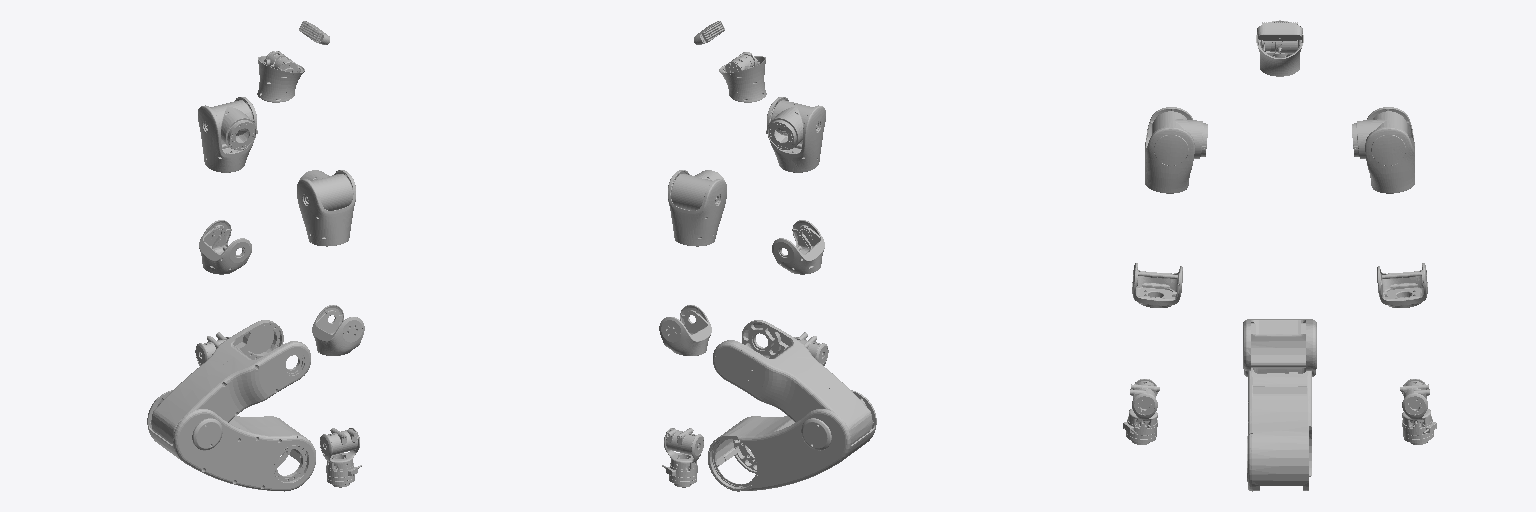
--- Facts derived from the render (not from the file) ---
3 views of the same robot in one strip: view 1: azimuth 30°, elevation 25°; view 2: azimuth 150°, elevation 25°; view 3: azimuth 270°, elevation 25° (orthographic).
Robot: tianyi2_urdf — 25 links, 24 joints (21 revolute, 3 fixed); root link base; default pose: all joints at 0.
Visible links, largest first — view 1: first_leg_pitch_link, second_leg_pitch_link, shoulder_roll_r_link, elbow_pitch_l_link, shoulder_roll_l_link, elbow_pitch_r_link, shoulder_pitch_l_link, head_yaw_link, shoulder_pitch_r_link, right_tcp_link, wrist_pitch_r_link; view 2: second_leg_pitch_link, first_leg_pitch_link, shoulder_roll_l_link, shoulder_roll_r_link, elbow_pitch_r_link, elbow_pitch_l_link, shoulder_pitch_r_link, head_yaw_link, shoulder_pitch_l_link, left_tcp_link, wrist_pitch_l_link; view 3: first_leg_pitch_link, second_leg_pitch_link, shoulder_roll_l_link, shoulder_roll_r_link, elbow_pitch_l_link, elbow_pitch_r_link, head_yaw_link, shoulder_pitch_l_link, shoulder_pitch_r_link, camera_head_link, left_tcp_link, right_tcp_link (+2 smaller).
Boxes of the visible links, x1,y1,x2,y2 form: first_leg_pitch_link: (147,390,315,491); second_leg_pitch_link: (151,320,310,444); shoulder_roll_r_link: (297,170,355,246); elbow_pitch_l_link: (199,220,251,274); shoulder_roll_l_link: (198,97,256,172); elbow_pitch_r_link: (312,305,364,355); shoulder_pitch_l_link: (206,100,257,149); head_yaw_link: (257,51,304,102); shoulder_pitch_r_link: (299,170,352,210); right_tcp_link: (326,457,361,487); wrist_pitch_r_link: (324,428,358,454); second_leg_pitch_link: (713,320,872,444); first_leg_pitch_link: (708,390,876,491); shoulder_roll_l_link: (668,170,726,246); shoulder_roll_r_link: (767,97,825,172); elbow_pitch_r_link: (772,220,824,274); elbow_pitch_l_link: (659,305,711,355); shoulder_pitch_r_link: (766,100,817,149); head_yaw_link: (719,56,766,102); shoulder_pitch_l_link: (671,170,724,210); left_tcp_link: (662,457,697,487); wrist_pitch_l_link: (665,428,699,454); first_leg_pitch_link: (1244,368,1315,491); second_leg_pitch_link: (1243,319,1316,373); shoulder_roll_l_link: (1365,107,1414,193); shoulder_roll_r_link: (1145,107,1194,193); elbow_pitch_l_link: (1377,263,1427,307); elbow_pitch_r_link: (1132,263,1182,307); head_yaw_link: (1256,20,1303,76); shoulder_pitch_l_link: (1352,111,1407,158); shoulder_pitch_r_link: (1152,111,1207,158); camera_head_link: (1257,22,1302,40); left_tcp_link: (1402,415,1436,444); right_tcp_link: (1123,415,1157,444).
Size in the robot's own frame: 0.3953 by 0.6155 by 1.05 metres.
17 mesh visuals loaded from 25 distinct referenced files (17 binary STL); not drawn: 8 (reference not matched to a file when rendering).

URDF robot description (tianyi2_urdf):
<?xml version='1.0' encoding='utf-8'?>
<robot name="tianyi2_urdf">
  <link name="base">
    <inertial>
      <origin xyz="-0.00067 -0.002625 0.150395" rpy="0 0 0" />
      <mass value="47.555667" />
      <inertia ixx="1.277779" ixy="-0.001232" ixz="-0.093599" iyy="1.293166" iyz="0.0036" izz="1.385346" />
    </inertial>
    <visual>
      <origin xyz="0 0 0" rpy="0 0 0" />
      <geometry>
        <mesh filename="package://tianyi2_urdf/meshes/base.STL" />
      </geometry>
      <material name="">
        <color rgba="0.752941176470588 0.752941176470588 0.752941176470588 1" />
      </material>
    </visual>
    <collision>
      <origin xyz="0 0 0" rpy="0 0 0" />
      <geometry>
        <mesh filename="package://tianyi2_urdf/meshes/base.STL" />
      </geometry>
    </collision>
  </link>
  <link name="first_leg_pitch_link">
    <inertial>
      <origin xyz="-0.105847 -0.000632 0.041305" rpy="0 0 0" />
      <mass value="2.460134" />
      <inertia ixx="0.012918" ixy="0.000516" ixz="0.0066" iyy="0.028707" iyz="-0.000254" izz="0.027239" />
    </inertial>
    <visual>
      <origin xyz="0 0 0" rpy="0 0 0" />
      <geometry>
        <mesh filename="package://tianyi2_urdf/meshes/first_leg_pitch_link.STL" />
      </geometry>
      <material name="">
        <color rgba="0.752941176470588 0.752941176470588 0.752941176470588 1" />
      </material>
    </visual>
    <collision>
      <origin xyz="0 0 0" rpy="0 0 0" />
      <geometry>
        <mesh filename="package://tianyi2_urdf/meshes/first_leg_pitch_link.STL" />
      </geometry>
    </collision>
  </link>
  <joint name="first_leg_pitch_joint" type="revolute">
    <origin xyz="0.049182 0 0.37" rpy="0 0 0" />
    <parent link="base" />
    <child link="first_leg_pitch_link" />
    <axis xyz="0 1 0" />
    <limit lower="-0.41887902047863906" upper="1.0471975511965976" effort="332.0" velocity="3.9269908169872414" />
  </joint>
  <link name="second_leg_pitch_link">
    <inertial>
      <origin xyz="0.056775 0.000389 0.045258" rpy="0 0 0" />
      <mass value="2.430846" />
      <inertia ixx="0.011853" ixy="4.6e-05" ixz="-0.009109" iyy="0.025086" iyz="5.6e-05" izz="0.022169" />
    </inertial>
    <visual>
      <origin xyz="0 0 0" rpy="0 0 0" />
      <geometry>
        <mesh filename="package://tianyi2_urdf/meshes/second_leg_pitch_link.STL" />
      </geometry>
      <material name="">
        <color rgba="0.752941176470588 0.752941176470588 0.752941176470588 1" />
      </material>
    </visual>
    <collision>
      <origin xyz="0 0 0" rpy="0 0 0" />
      <geometry>
        <mesh filename="package://tianyi2_urdf/meshes/second_leg_pitch_link.STL" />
      </geometry>
    </collision>
  </link>
  <joint name="second_leg_pitch_joint" type="revolute">
    <origin xyz="-0.20785 0 0.12" rpy="0 0 0" />
    <parent link="first_leg_pitch_link" />
    <child link="second_leg_pitch_link" />
    <axis xyz="0 1 0" />
    <limit lower="-0.5061454830783556" upper="1.7453292519943295" effort="332.0" velocity="3.9269908169872414" />
  </joint>
  <link name="waist_pitch_link">
    <inertial>
      <origin xyz="8e-06 0.012369 0.001276" rpy="0 0 0" />
      <mass value="3.38238" />
      <inertia ixx="0.005589" ixy="1e-06" ixz="-1e-06" iyy="0.006064" iyz="4.9e-05" izz="0.005334" />
    </inertial>
    <visual>
      <origin xyz="0 0 0" rpy="0 0 0" />
      <geometry>
        <mesh filename="package://tianyi2_urdf/meshes/waist_pitch_link.STL" />
      </geometry>
      <material name="">
        <color rgba="0.752941176470588 0.752941176470588 0.752941176470588 1" />
      </material>
    </visual>
    <collision>
      <origin xyz="0 0 0" rpy="0 0 0" />
      <geometry>
        <mesh filename="package://tianyi2_urdf/meshes/waist_pitch_link.STL" />
      </geometry>
    </collision>
  </link>
  <joint name="waist_pitch_joint" type="revolute">
    <origin xyz="0.20785 0 0.12" rpy="0 0 0" />
    <parent link="second_leg_pitch_link" />
    <child link="waist_pitch_link" />
    <axis xyz="0 1 0" />
    <limit lower="-2.0943951023931953" upper="0.7853981633974483" effort="332.0" velocity="3.9269908169872414" />
  </joint>
  <link name="body_yaw_link">
    <inertial>
      <origin xyz="0.009196 -0.000592 0.251379" rpy="0 0 0" />
      <mass value="13.795395" />
      <inertia ixx="0.372395" ixy="0.000248" ixz="0.001337" iyy="0.331609" iyz="0.000779" izz="0.127753" />
    </inertial>
    <visual>
      <origin xyz="0 0 0" rpy="0 0 0" />
      <geometry>
        <mesh filename="package://tianyi2_urdf/meshes/body_yaw_link.STL" />
      </geometry>
      <material name="">
        <color rgba="0.752941176470588 0.752941176470588 0.752941176470588 1" />
      </material>
    </visual>
    <collision>
      <origin xyz="0 0 0" rpy="0 0 0" />
      <geometry>
        <mesh filename="package://tianyi2_urdf/meshes/body_yaw_link.STL" />
      </geometry>
    </collision>
  </link>
  <joint name="body_yaw_joint" type="revolute">
    <origin xyz="0 0 0.07" rpy="0 0 0" />
    <parent link="waist_pitch_link" />
    <child link="body_yaw_link" />
    <axis xyz="0 0 1" />
    <limit lower="-2.9670597283903604" upper="3.141592653589793" effort="143.0" velocity="4.71238898038469" />
  </joint>
  <link name="head_yaw_link">
    <inertial>
      <origin xyz="-0.000202 0.000454 0.007248" rpy="0 0 0" />
      <mass value="0.088397" />
      <inertia ixx="9.5e-05" ixy="-1e-06" ixz="-3e-06" iyy="7.6e-05" iyz="-3e-06" izz="0.000106" />
    </inertial>
    <visual>
      <origin xyz="0 0 0" rpy="0 0 0" />
      <geometry>
        <mesh filename="package://tianyi2_urdf/meshes/head_yaw_link.STL" />
      </geometry>
      <material name="">
        <color rgba="0.752941176470588 0.752941176470588 0.752941176470588 1" />
      </material>
    </visual>
    <collision>
      <origin xyz="0 0 0" rpy="0 0 0" />
      <geometry>
        <mesh filename="package://tianyi2_urdf/meshes/head_yaw_link.STL" />
      </geometry>
    </collision>
  </link>
  <joint name="head_yaw_joint" type="revolute">
    <origin xyz="-0.002 0 0.56508" rpy="0 0 0" />
    <parent link="body_yaw_link" />
    <child link="head_yaw_link" />
    <axis xyz="0 0 1" />
    <limit lower="-1.5707963267948966" upper="1.5707963267948966" effort="6.3" velocity="7.5398223686155035" />
  </joint>
  <link name="head_pitch_link">
    <inertial>
      <origin xyz="-0.000274 0.004118 2.3e-05" rpy="0 0 0" />
      <mass value="0.23046" />
      <inertia ixx="9.2e-05" ixy="1e-06" ixz="-1e-06" iyy="5.4e-05" iyz="0.0" izz="9.5e-05" />
    </inertial>
    <visual>
      <origin xyz="0 0 0" rpy="0 0 0" />
      <geometry>
        <mesh filename="package://tianyi2_urdf/meshes/head_pitch_link.STL" />
      </geometry>
      <material name="">
        <color rgba="0.752941176470588 0.752941176470588 0.752941176470588 1" />
      </material>
    </visual>
    <collision>
      <origin xyz="0 0 0" rpy="0 0 0" />
      <geometry>
        <mesh filename="package://tianyi2_urdf/meshes/head_pitch_link.STL" />
      </geometry>
    </collision>
  </link>
  <joint name="head_pitch_joint" type="revolute">
    <origin xyz="0.01455 0 0.0304" rpy="0 0.2618 0" />
    <parent link="head_yaw_link" />
    <child link="head_pitch_link" />
    <axis xyz="0 1 0" />
    <limit lower="-0.4363323129985824" upper="0.4363323129985824" effort="6.3" velocity="7.5398223686155035" />
  </joint>
  <link name="head_roll_link">
    <inertial>
      <origin xyz="0.022467 0.001208 0.053952" rpy="0 0 0" />
      <mass value="0.844627" />
      <inertia ixx="0.00235" ixy="3.8e-05" ixz="0.000436" iyy="0.003365" iyz="6e-06" izz="0.002875" />
    </inertial>
    <visual>
      <origin xyz="0 0 0" rpy="0 0 0" />
      <geometry>
        <mesh filename="package://tianyi2_urdf/meshes/head_roll_link.STL" />
      </geometry>
      <material name="">
        <color rgba="0.752941176470588 0.752941176470588 0.752941176470588 1" />
      </material>
    </visual>
    <collision>
      <origin xyz="0 0 0" rpy="0 0 0" />
      <geometry>
        <mesh filename="package://tianyi2_urdf/meshes/head_roll_link.STL" />
      </geometry>
    </collision>
  </link>
  <joint name="head_roll_joint" type="revolute">
    <origin xyz="0 0 0" rpy="0 0 0" />
    <parent link="head_pitch_link" />
    <child link="head_roll_link" />
    <axis xyz="1 0 0" />
    <limit lower="-0.4537856055185257" upper="0.4537856055185257" effort="6.3" velocity="7.5398223686155035" />
  </joint>
  <link name="camera_head_link">
    <inertial>
      <origin xyz="0.010986 -0.000307 -0.016475" rpy="0 0 0" />
      <mass value="0.1" />
      <inertia ixx="1.6e-05" ixy="0.0" ixz="0.0" iyy="8e-05" iyz="0.0" izz="7.7e-05" />
    </inertial>
    <visual>
      <origin xyz="0 0 0" rpy="0 0 0" />
      <geometry>
        <mesh filename="package://tianyi2_urdf/meshes/camera_head_link.STL" />
      </geometry>
      <material name="">
        <color rgba="0.752941176470588 0.752941176470588 0.752941176470588 1" />
      </material>
    </visual>
    <collision>
      <origin xyz="0 0 0" rpy="0 0 0" />
      <geometry>
        <mesh filename="package://tianyi2_urdf/meshes/camera_head_link.STL" />
      </geometry>
    </collision>
  </link>
  <joint name="camera_head_joint" type="fixed">
    <origin xyz="0.075288 0.010935 0.07441" rpy="-1.8326 0 -1.5708" />
    <parent link="head_roll_link" />
    <child link="camera_head_link" />
    <axis xyz="0 0 0" />
  </joint>
  <link name="shoulder_pitch_l_link">
    <inertial>
      <origin xyz="0.007494 0.064184 -2e-05" rpy="0 0 0" />
      <mass value="1.032698" />
      <inertia ixx="0.001025" ixy="-2.7e-05" ixz="-1e-06" iyy="0.001078" iyz="0.0" izz="0.001247" />
    </inertial>
    <visual>
      <origin xyz="0 0 0" rpy="0 0 0" />
      <geometry>
        <mesh filename="package://tianyi2_urdf/meshes/shoulder_pitch_l_link.STL" />
      </geometry>
      <material name="">
        <color rgba="0.752941176470588 0.752941176470588 0.752941176470588 1" />
      </material>
    </visual>
    <collision>
      <origin xyz="0 0 0" rpy="0 0 0" />
      <geometry>
        <mesh filename="package://tianyi2_urdf/meshes/shoulder_pitch_l_link.STL" />
      </geometry>
    </collision>
  </link>
  <joint name="shoulder_pitch_l_joint" type="revolute">
    <origin xyz="0 0.14539 0.37721" rpy="0.087266 0 0" />
    <parent link="body_yaw_link" />
    <child link="shoulder_pitch_l_link" />
    <axis xyz="0 1 0" />
    <limit lower="-2.9670597283903604" upper="2.9670597283903604" effort="91.0" velocity="9.215338450530059" />
  </joint>
  <link name="shoulder_roll_l_link">
    <inertial>
      <origin xyz="0.002389 0.002259 -0.048236" rpy="0 0 0" />
      <mass value="0.440997" />
      <inertia ixx="0.001001" ixy="-4e-06" ixz="-2.5e-05" iyy="0.001313" iyz="-1.4e-05" izz="0.000911" />
    </inertial>
    <visual>
      <origin xyz="0 0 0" rpy="0 0 0" />
      <geometry>
        <mesh filename="package://tianyi2_urdf/meshes/shoulder_roll_l_link.STL" />
      </geometry>
      <material name="">
        <color rgba="0.752941176470588 0.752941176470588 0.752941176470588 1" />
      </material>
    </visual>
    <collision>
      <origin xyz="0 0 0" rpy="0 0 0" />
      <geometry>
        <mesh filename="package://tianyi2_urdf/meshes/shoulder_roll_l_link.STL" />
      </geometry>
    </collision>
  </link>
  <joint name="shoulder_roll_l_joint" type="revolute">
    <origin xyz="0 0.068 0" rpy="0 0 0" />
    <parent link="shoulder_pitch_l_link" />
    <child link="shoulder_roll_l_link" />
    <axis xyz="1 0 0" />
    <limit lower="-1.0471975511965976" upper="1.8325957145940461" effort="95.0" velocity="3.979350694547071" />
  </joint>
  <link name="shoulder_yaw_l_link">
    <inertial>
      <origin xyz="0.008319 0.002686 -0.112525" rpy="0 0 0" />
      <mass value="1.365033" />
      <inertia ixx="0.009637" ixy="-5.7e-05" ixz="0.00095" iyy="0.0096" iyz="0.000339" izz="0.001331" />
    </inertial>
    <visual>
      <origin xyz="0 0 0" rpy="0 0 0" />
      <geometry>
        <mesh filename="package://tianyi2_urdf/meshes/shoulder_yaw_l_link.STL" />
      </geometry>
      <material name="">
        <color rgba="0.752941176470588 0.752941176470588 0.752941176470588 1" />
      </material>
    </visual>
    <collision>
      <origin xyz="0 0 0" rpy="0 0 0" />
      <geometry>
        <mesh filename="package://tianyi2_urdf/meshes/shoulder_yaw_l_link.STL" />
      </geometry>
    </collision>
  </link>
  <joint name="shoulder_yaw_l_joint" type="revolute">
    <origin xyz="0 0 -0.1025" rpy="0 0 0" />
    <parent link="shoulder_roll_l_link" />
    <child link="shoulder_yaw_l_link" />
    <axis xyz="0 0 1" />
    <limit lower="-2.9670597283903604" upper="2.9670597283903604" effort="35.0" velocity="5.235987755982989" />
  </joint>
  <link name="elbow_pitch_l_link">
    <inertial>
      <origin xyz="-0.014694 -7.2e-05 -0.026081" rpy="0 0 0" />
      <mass value="0.246311" />
      <inertia ixx="0.000381" ixy="1e-06" ixz="-1.2e-05" iyy="0.000222" iyz="2e-06" izz="0.000401" />
    </inertial>
    <visual>
      <origin xyz="0 0 0" rpy="0 0 0" />
      <geometry>
        <mesh filename="package://tianyi2_urdf/meshes/elbow_pitch_l_link.STL" />
      </geometry>
      <material name="">
        <color rgba="0.752941176470588 0.752941176470588 0.752941176470588 1" />
      </material>
    </visual>
    <collision>
      <origin xyz="0 0 0" rpy="0 0 0" />
      <geometry>
        <mesh filename="package://tianyi2_urdf/meshes/elbow_pitch_l_link.STL" />
      </geometry>
    </collision>
  </link>
  <joint name="elbow_pitch_l_joint" type="revolute">
    <origin xyz="0.02 0 -0.1975" rpy="0 0 0" />
    <parent link="shoulder_yaw_l_link" />
    <child link="elbow_pitch_l_link" />
    <axis xyz="0 1 0" />
    <limit lower="-2.6179938779914944" upper="0.2617993877991494" effort="35.0" velocity="5.235987755982989" />
  </joint>
  <link name="elbow_yaw_l_link">
    <inertial>
      <origin xyz="0.000158 0.001503 -0.069535" rpy="0 0 0" />
      <mass value="0.986828" />
      <inertia ixx="0.003108" ixy="-1e-06" ixz="8e-06" iyy="0.003035" iyz="8.9e-05" izz="0.00058" />
    </inertial>
    <visual>
      <origin xyz="0 0 0" rpy="0 0 0" />
      <geometry>
        <mesh filename="package://tianyi2_urdf/meshes/elbow_yaw_l_link.STL" />
      </geometry>
      <material name="">
        <color rgba="0.752941176470588 0.752941176470588 0.752941176470588 1" />
      </material>
    </visual>
    <collision>
      <origin xyz="0 0 0" rpy="0 0 0" />
      <geometry>
        <mesh filename="package://tianyi2_urdf/meshes/elbow_yaw_l_link.STL" />
      </geometry>
    </collision>
  </link>
  <joint name="elbow_yaw_l_joint" type="revolute">
    <origin xyz="-0.02 0 -0.0543" rpy="0 0 0" />
    <parent link="elbow_pitch_l_link" />
    <child link="elbow_yaw_l_link" />
    <axis xyz="0 0 1" />
    <limit lower="-2.9670597283903604" upper="2.9670597283903604" effort="24.0" velocity="10.471975511965978" />
  </joint>
  <link name="wrist_pitch_l_link">
    <inertial>
      <origin xyz="0.005362 0.00064 -0.018812" rpy="0 0 0" />
      <mass value="0.262007" />
      <inertia ixx="7.1e-05" ixy="-3e-06" ixz="-2e-06" iyy="0.000112" iyz="-3e-06" izz="0.000111" />
    </inertial>
    <visual>
      <origin xyz="0 0 0" rpy="0 0 0" />
      <geometry>
        <mesh filename="package://tianyi2_urdf/meshes/wrist_pitch_l_link.STL" />
      </geometry>
      <material name="">
        <color rgba="0.752941176470588 0.752941176470588 0.752941176470588 1" />
      </material>
    </visual>
    <collision>
      <origin xyz="0 0 0" rpy="0 0 0" />
      <geometry>
        <mesh filename="package://tianyi2_urdf/meshes/wrist_pitch_l_link.STL" />
      </geometry>
    </collision>
  </link>
  <joint name="wrist_pitch_l_joint" type="revolute">
    <origin xyz="0 0.002 -0.1887" rpy="0 0 0" />
    <parent link="elbow_yaw_l_link" />
    <child link="wrist_pitch_l_link" />
    <axis xyz="0 1 0" />
    <limit lower="-1.3089969389957472" upper="1.6580627893946132" effort="6.3" velocity="7.5398223686155035" />
  </joint>
  <link name="wrist_roll_l_link">
    <inertial>
      <origin xyz="0.000801 8.4e-05 -0.029302" rpy="0 0 0" />
      <mass value="0.131751" />
      <inertia ixx="6.9e-05" ixy="0.0" ixz="-1e-06" iyy="0.000116" iyz="0.0" izz="0.00011" />
    </inertial>
    <visual>
      <origin xyz="0 0 0" rpy="0 0 0" />
      <geometry>
        <mesh filename="package://tianyi2_urdf/meshes/wrist_roll_l_link.STL" />
      </geometry>
      <material name="">
        <color rgba="0.752941176470588 0.752941176470588 0.752941176470588 1" />
      </material>
    </visual>
    <collision>
      <origin xyz="0 0 0" rpy="0 0 0" />
      <geometry>
        <mesh filename="package://tianyi2_urdf/meshes/wrist_roll_l_link.STL" />
      </geometry>
    </collision>
  </link>
  <joint name="wrist_roll_l_joint" type="revolute">
    <origin xyz="5.0485E-05 0 -0.02" rpy="0 0 0" />
    <parent link="wrist_pitch_l_link" />
    <child link="wrist_roll_l_link" />
    <axis xyz="1 0 0" />
    <limit lower="-1.0471975511965976" upper="0.7853981633974483" effort="6.3" velocity="7.5398223686155035" />
  </joint>
  <link name="left_tcp_link">
    <inertial>
      <origin xyz="0.000238 0.000502 0.021714" rpy="0 0 0" />
      <mass value="0.252604" />
      <inertia ixx="0.000124" ixy="-2e-06" ixz="0.0" iyy="0.000119" iyz="0.0" izz="0.000132" />
    </inertial>
    <visual>
      <origin xyz="0 0 0" rpy="0 0 0" />
      <geometry>
        <mesh filename="package://tianyi2_urdf/meshes/left_tcp_link.STL" />
      </geometry>
      <material name="">
        <color rgba="0.752941176470588 0.752941176470588 0.752941176470588 1" />
      </material>
    </visual>
    <collision>
      <origin xyz="0 0 0" rpy="0 0 0" />
      <geometry>
        <mesh filename="package://tianyi2_urdf/meshes/left_tcp_link.STL" />
      </geometry>
    </collision>
  </link>
  <joint name="left_tcp_joint" type="fixed">
    <origin xyz="0 3.5454E-05 -0.084799" rpy="0 0 0" />
    <parent link="wrist_roll_l_link" />
    <child link="left_tcp_link" />
    <axis xyz="0 0 0" />
  </joint>
  <link name="shoulder_pitch_r_link">
    <inertial>
      <origin xyz="0.007494 -0.064184 -2e-05" rpy="0 0 0" />
      <mass value="1.032698" />
      <inertia ixx="0.001025" ixy="2.7e-05" ixz="-1e-06" iyy="0.001078" iyz="0.0" izz="0.001247" />
    </inertial>
    <visual>
      <origin xyz="0 0 0" rpy="0 0 0" />
      <geometry>
        <mesh filename="package://tianyi2_urdf/meshes/shoulder_pitch_r_link.STL" />
      </geometry>
      <material name="">
        <color rgba="0.752941176470588 0.752941176470588 0.752941176470588 1" />
      </material>
    </visual>
    <collision>
      <origin xyz="0 0 0" rpy="0 0 0" />
      <geometry>
        <mesh filename="package://tianyi2_urdf/meshes/shoulder_pitch_r_link.STL" />
      </geometry>
    </collision>
  </link>
  <joint name="shoulder_pitch_r_joint" type="revolute">
    <origin xyz="0 -0.14539 0.37721" rpy="-0.087266 0 0" />
    <parent link="body_yaw_link" />
    <child link="shoulder_pitch_r_link" />
    <axis xyz="0 1 0" />
    <limit lower="-2.9670597283903604" upper="2.9670597283903604" effort="91.0" velocity="9.215338450530059" />
  </joint>
  <link name="shoulder_roll_r_link">
    <inertial>
      <origin xyz="0.002389 -0.002259 -0.048236" rpy="0 0 0" />
      <mass value="0.440997" />
      <inertia ixx="0.001001" ixy="4e-06" ixz="-2.5e-05" iyy="0.001313" iyz="1.4e-05" izz="0.000911" />
    </inertial>
    <visual>
      <origin xyz="0 0 0" rpy="0 0 0" />
      <geometry>
        <mesh filename="package://tianyi2_urdf/meshes/shoulder_roll_r_link.STL" />
      </geometry>
      <material name="">
        <color rgba="0.752941176470588 0.752941176470588 0.752941176470588 1" />
      </material>
    </visual>
    <collision>
      <origin xyz="0 0 0" rpy="0 0 0" />
      <geometry>
        <mesh filename="package://tianyi2_urdf/meshes/shoulder_roll_r_link.STL" />
      </geometry>
    </collision>
  </link>
  <joint name="shoulder_roll_r_joint" type="revolute">
    <origin xyz="0 -0.068 0" rpy="0 0 0" />
    <parent link="shoulder_pitch_r_link" />
    <child link="shoulder_roll_r_link" />
    <axis xyz="1 0 0" />
    <limit lower="-1.8325957145940461" upper="1.0471975511965976" effort="95.0" velocity="3.979350694547071" />
  </joint>
  <link name="shoulder_yaw_r_link">
    <inertial>
      <origin xyz="0.008319 -0.002686 -0.112525" rpy="0 0 0" />
      <mass value="1.365033" />
      <inertia ixx="0.009637" ixy="5.7e-05" ixz="0.00095" iyy="0.0096" iyz="-0.000339" izz="0.001331" />
    </inertial>
    <visual>
      <origin xyz="0 0 0" rpy="0 0 0" />
      <geometry>
        <mesh filename="package://tianyi2_urdf/meshes/shoulder_yaw_r_link.STL" />
      </geometry>
      <material name="">
        <color rgba="0.752941176470588 0.752941176470588 0.752941176470588 1" />
      </material>
    </visual>
    <collision>
      <origin xyz="0 0 0" rpy="0 0 0" />
      <geometry>
        <mesh filename="package://tianyi2_urdf/meshes/shoulder_yaw_r_link.STL" />
      </geometry>
    </collision>
  </link>
  <joint name="shoulder_yaw_r_joint" type="revolute">
    <origin xyz="0 0 -0.1025" rpy="0 0 0" />
    <parent link="shoulder_roll_r_link" />
    <child link="shoulder_yaw_r_link" />
    <axis xyz="0 0 1" />
    <limit lower="-2.9670597283903604" upper="2.9670597283903604" effort="35.0" velocity="5.235987755982989" />
  </joint>
  <link name="elbow_pitch_r_link">
    <inertial>
      <origin xyz="-0.014694 7.2e-05 -0.026081" rpy="0 0 0" />
      <mass value="0.246311" />
      <inertia ixx="0.000381" ixy="-1e-06" ixz="-1.2e-05" iyy="0.000222" iyz="-2e-06" izz="0.000401" />
    </inertial>
    <visual>
      <origin xyz="0 0 0" rpy="0 0 0" />
      <geometry>
        <mesh filename="package://tianyi2_urdf/meshes/elbow_pitch_r_link.STL" />
      </geometry>
      <material name="">
        <color rgba="0.752941176470588 0.752941176470588 0.752941176470588 1" />
      </material>
    </visual>
    <collision>
      <origin xyz="0 0 0" rpy="0 0 0" />
      <geometry>
        <mesh filename="package://tianyi2_urdf/meshes/elbow_pitch_r_link.STL" />
      </geometry>
    </collision>
  </link>
  <joint name="elbow_pitch_r_joint" type="revolute">
    <origin xyz="0.02 0 -0.1975" rpy="0 0 0" />
    <parent link="shoulder_yaw_r_link" />
    <child link="elbow_pitch_r_link" />
    <axis xyz="0 1 0" />
    <limit lower="-2.6179938779914944" upper="0.2617993877991494" effort="35.0" velocity="5.235987755982989" />
  </joint>
  <link name="elbow_yaw_r_link">
    <inertial>
      <origin xyz="0.000158 -0.001503 -0.069535" rpy="0 0 0" />
      <mass value="0.986828" />
      <inertia ixx="0.003108" ixy="1e-06" ixz="8e-06" iyy="0.003035" iyz="-8.9e-05" izz="0.00058" />
    </inertial>
    <visual>
      <origin xyz="0 0 0" rpy="0 0 0" />
      <geometry>
        <mesh filename="package://tianyi2_urdf/meshes/elbow_yaw_r_link.STL" />
      </geometry>
      <material name="">
        <color rgba="0.752941176470588 0.752941176470588 0.752941176470588 1" />
      </material>
    </visual>
    <collision>
      <origin xyz="0 0 0" rpy="0 0 0" />
      <geometry>
        <mesh filename="package://tianyi2_urdf/meshes/elbow_yaw_r_link.STL" />
      </geometry>
    </collision>
  </link>
  <joint name="elbow_yaw_r_joint" type="revolute">
    <origin xyz="-0.02 0 -0.0543" rpy="0 0 0" />
    <parent link="elbow_pitch_r_link" />
    <child link="elbow_yaw_r_link" />
    <axis xyz="0 0 1" />
    <limit lower="-2.9670597283903604" upper="2.9670597283903604" effort="24.0" velocity="10.471975511965978" />
  </joint>
  <link name="wrist_pitch_r_link">
    <inertial>
      <origin xyz="0.005362 -0.00064 -0.018812" rpy="0 0 0" />
      <mass value="0.262007" />
      <inertia ixx="7.1e-05" ixy="3e-06" ixz="-2e-06" iyy="0.000112" iyz="3e-06" izz="0.000111" />
    </inertial>
    <visual>
      <origin xyz="0 0 0" rpy="0 0 0" />
      <geometry>
        <mesh filename="package://tianyi2_urdf/meshes/wrist_pitch_r_link.STL" />
      </geometry>
      <material name="">
        <color rgba="0.752941176470588 0.752941176470588 0.752941176470588 1" />
      </material>
    </visual>
    <collision>
      <origin xyz="0 0 0" rpy="0 0 0" />
      <geometry>
        <mesh filename="package://tianyi2_urdf/meshes/wrist_pitch_r_link.STL" />
      </geometry>
    </collision>
  </link>
  <joint name="wrist_pitch_r_joint" type="revolute">
    <origin xyz="0 -0.002 -0.1887" rpy="0 0 0" />
    <parent link="elbow_yaw_r_link" />
    <child link="wrist_pitch_r_link" />
    <axis xyz="0 1 0" />
    <limit lower="-1.3089969389957472" upper="1.6580627893946132" effort="6.3" velocity="7.5398223686155035" />
  </joint>
  <link name="wrist_roll_r_link">
    <inertial>
      <origin xyz="0.000801 -8.4e-05 -0.029302" rpy="0 0 0" />
      <mass value="0.131751" />
      <inertia ixx="6.9e-05" ixy="0.0" ixz="-1e-06" iyy="0.000116" iyz="0.0" izz="0.00011" />
    </inertial>
    <visual>
      <origin xyz="0 0 0" rpy="0 0 0" />
      <geometry>
        <mesh filename="package://tianyi2_urdf/meshes/wrist_roll_r_link.STL" />
      </geometry>
      <material name="">
        <color rgba="0.752941176470588 0.752941176470588 0.752941176470588 1" />
      </material>
    </visual>
    <collision>
      <origin xyz="0 0 0" rpy="0 0 0" />
      <geometry>
        <mesh filename="package://tianyi2_urdf/meshes/wrist_roll_r_link.STL" />
      </geometry>
    </collision>
  </link>
  <joint name="wrist_roll_r_joint" type="revolute">
    <origin xyz="5.0485E-05 0 -0.02" rpy="0 0 0" />
    <parent link="wrist_pitch_r_link" />
    <child link="wrist_roll_r_link" />
    <axis xyz="1 0 0" />
    <limit lower="-0.7853981633974483" upper="1.0471975511965976" effort="6.3" velocity="7.5398223686155035" />
  </joint>
  <link name="right_tcp_link">
    <inertial>
      <origin xyz="0.000238 -0.000502 0.021714" rpy="0 0 0" />
      <mass value="0.252604" />
      <inertia ixx="0.000124" ixy="2e-06" ixz="0.0" iyy="0.000119" iyz="0.0" izz="0.000132" />
    </inertial>
    <visual>
      <origin xyz="0 0 0" rpy="0 0 0" />
      <geometry>
        <mesh filename="package://tianyi2_urdf/meshes/right_tcp_link.STL" />
      </geometry>
      <material name="">
        <color rgba="0.752941176470588 0.752941176470588 0.752941176470588 1" />
      </material>
    </visual>
    <collision>
      <origin xyz="0 0 0" rpy="0 0 0" />
      <geometry>
        <mesh filename="package://tianyi2_urdf/meshes/right_tcp_link.STL" />
      </geometry>
    </collision>
  </link>
  <joint name="right_tcp_joint" type="fixed">
    <origin xyz="0 -3.5405E-05 -0.084799" rpy="0 0 0" />
    <parent link="wrist_roll_r_link" />
    <child link="right_tcp_link" />
    <axis xyz="0 0 0" />
  </joint>
</robot>
